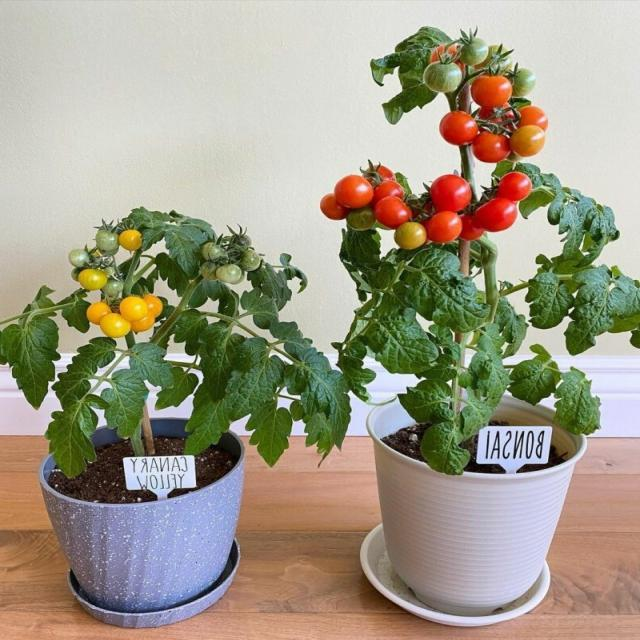tomato: (321, 26, 640, 476), (0, 208, 351, 476)
